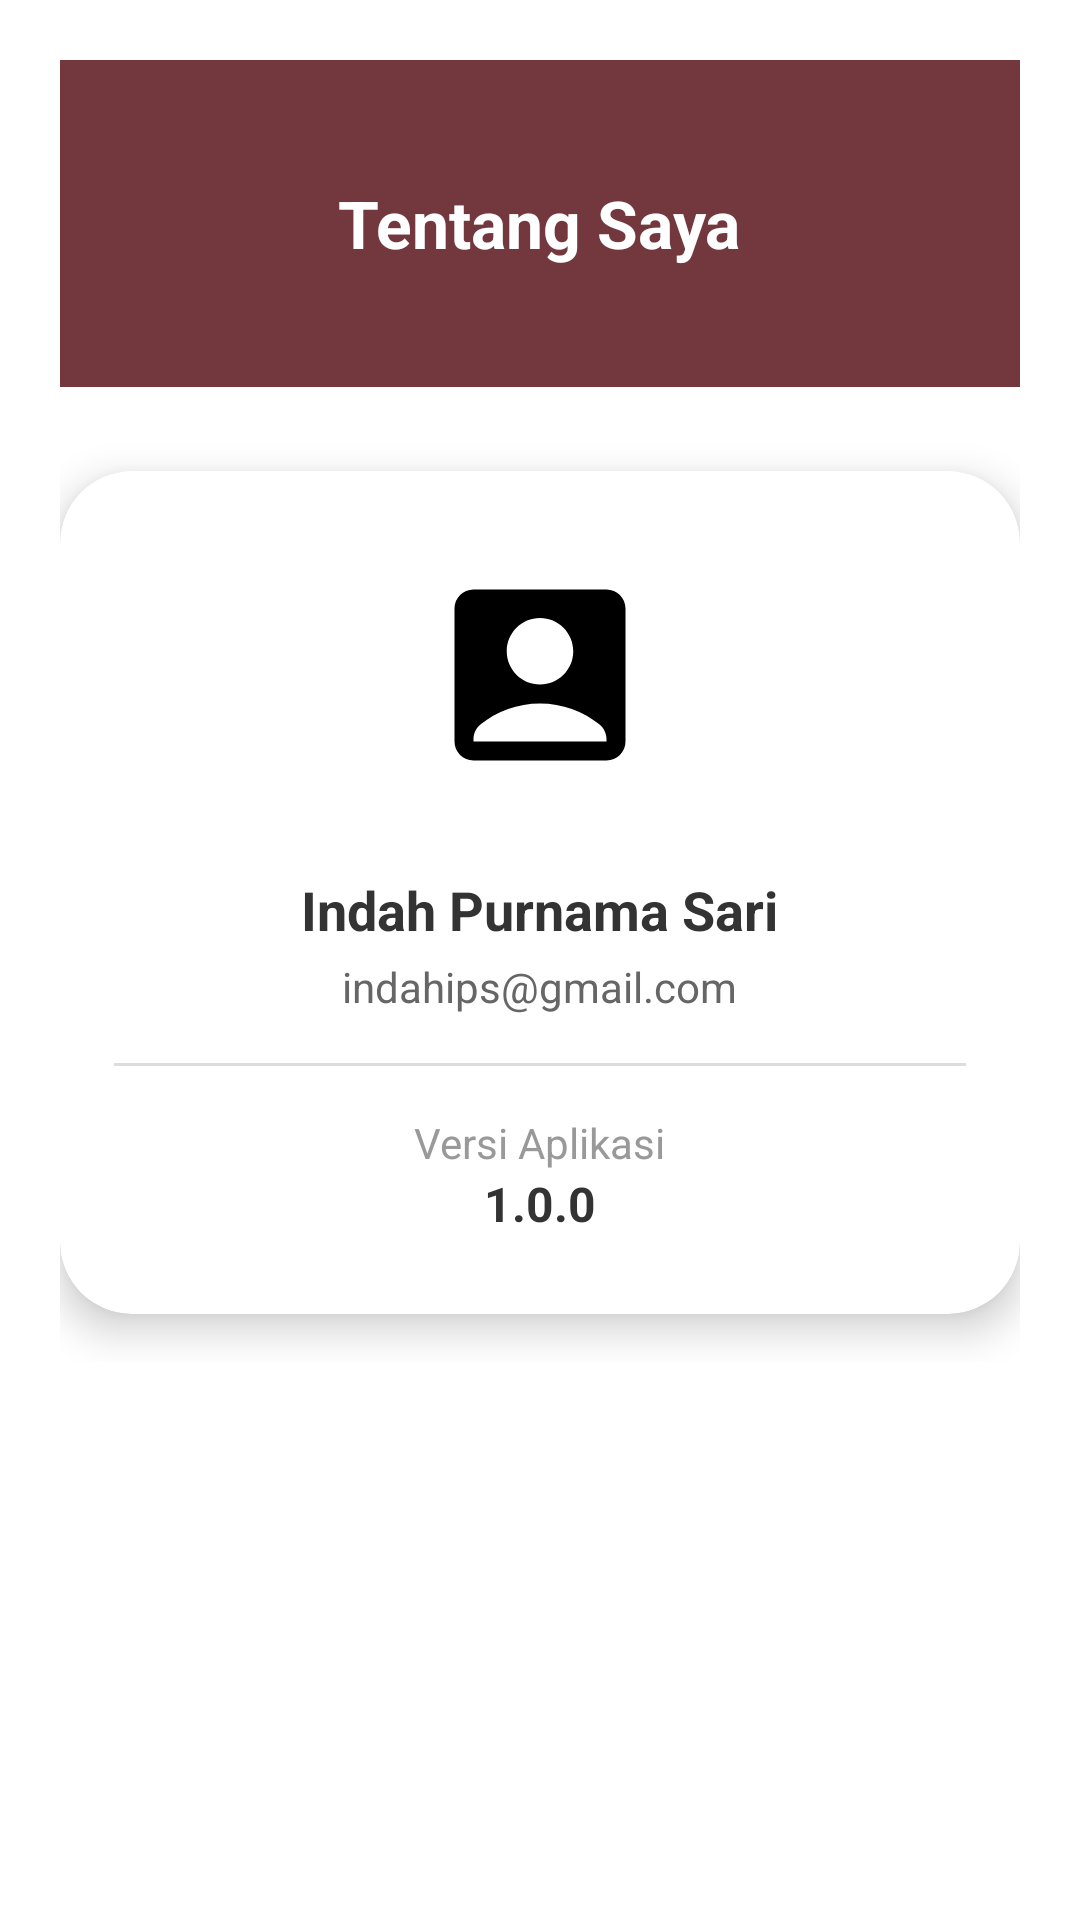

Where to tap for icons on this 1080 x 1920 app screen, as (x,y):
Foto Profil: (540,675)
